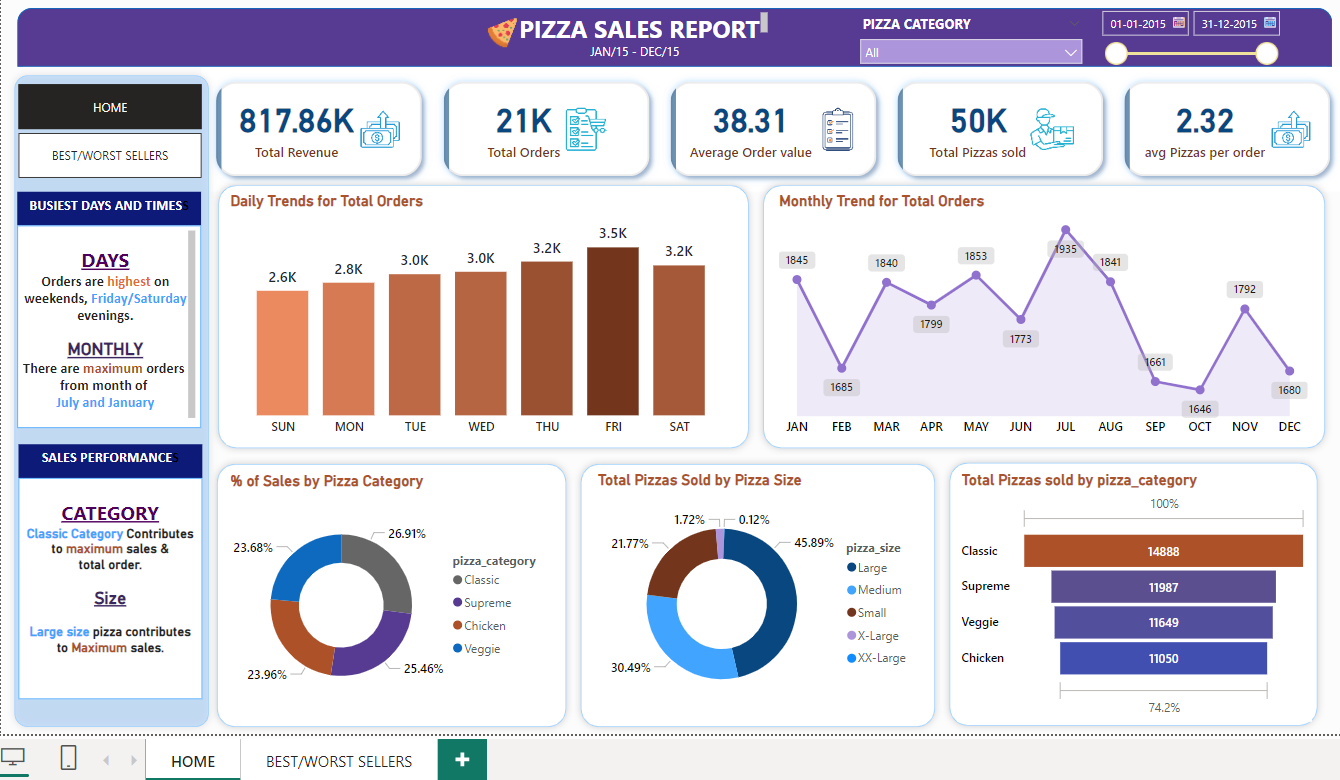

This screenshot's page, from the dashboard's own definition file:
{"tool":"powerbi","page":{"name":"HOME","canvas":[1500,820],"ordinal":0},"visuals":[{"type":"cardVisual","fields":{"Data":["pizza_sales.Total Revenue","pizza_sales.Total Orders","pizza_sales.Average Order value","pizza_sales.Total Pizzas sold","pizza_sales.avg Pizzas per order"]},"box":[222.8,76.6,1277.1,139.3],"z":0},{"type":"shape","box":[18.1,11.1,1465.1,65.5],"z":1000},{"type":"textbox","box":[571,11.1,288.3,44.6],"z":2000},{"type":"textbox","box":[637.8,46,136.5,30.6],"z":3000},{"type":"image","box":[490.2,16.7,136.5,44.6],"z":4000},{"type":"shape","box":[234,200.5,607.2,309.2],"z":5000},{"type":"columnChart","title":"Daily Trends for Total Orders","fields":{"Category":["pizza_sales.Order day"],"Y":["pizza_sales.Total Orders"]},"box":[250.7,215.9,569.6,281.3],"z":6000},{"type":"shape","box":[841.2,200.5,642,309.2],"z":7000},{"type":"areaChart","title":"Monthly Trend for Total Orders","fields":{"Category":["pizza_sales.Order Month"],"Y":["pizza_sales.Total Orders"]},"box":[862.1,215.9,598.8,281.3],"z":8000},{"type":"shape","box":[637.8,511.1,410.8,309.2],"z":9000},{"type":"shape","box":[232.6,511.1,405.3,309.2],"z":10000},{"type":"shape","box":[1048.7,509.7,426.2,309.2],"z":11000},{"type":"donutChart","title":"% of Sales by Pizza Category","fields":{"Category":["pizza_sales.pizza_category"],"Y":["pizza_sales.Total Revenue"]},"box":[250.7,527.8,366.3,278.5],"z":12000},{"type":"donutChart","title":"Total Pizzas Sold by Pizza Size","fields":{"Category":["pizza_sales.pizza_size"],"Y":["pizza_sales.Total Revenue"]},"box":[660.1,526.4,366.3,278.5],"z":13000},{"type":"funnel","fields":{"Category":["pizza_sales.pizza_category"],"Y":["pizza_sales.Total Pizzas sold"]},"box":[1065.4,526.4,395.5,279.9],"z":14000},{"type":"shape","box":[7,78,232.6,742.3],"z":15000},{"type":"textbox","box":[18.1,215.9,204.7,37.6],"z":16000},{"type":"textbox","box":[18.1,253.5,204.7,225.6],"z":17000},{"type":"textbox","box":[19.5,497.2,204.7,37.6],"z":18000},{"type":"textbox","box":[19.5,534.8,204.7,246.5],"z":19000},{"type":"slicer","fields":{"Values":["pizza_sales.pizza_category"]},"box":[947,13.9,267.4,59.9],"z":20000},{"type":"slicer","fields":{"Values":["pizza_sales.order_date"]},"box":[1214.4,4.2,217.3,83.6],"z":21000},{"type":"pageNavigator","box":[19.5,96.1,204.7,50.1],"z":22000},{"type":"pageNavigator","box":[19.5,150.4,204.7,50.1],"z":23000}]}

Visuals, with their boxes on the page's 1500x820 design canvas (x1, y1, x2, y2). These are canvas units, not pixel positions in the 1340x780 screenshot, which may show the page scaled, cropped or inside an application window:
cardVisual - pizza_sales.Total Revenue x pizza_sales.Total Orders: <region>223, 77, 1500, 216</region>
shape: <region>18, 11, 1483, 77</region>
textbox: <region>571, 11, 859, 56</region>
textbox: <region>638, 46, 774, 77</region>
image: <region>490, 17, 627, 61</region>
shape: <region>234, 200, 841, 510</region>
"Daily Trends for Total Orders" columnChart: <region>251, 216, 820, 497</region>
shape: <region>841, 200, 1483, 510</region>
"Monthly Trend for Total Orders" areaChart: <region>862, 216, 1461, 497</region>
shape: <region>638, 511, 1049, 820</region>
shape: <region>233, 511, 638, 820</region>
shape: <region>1049, 510, 1475, 819</region>
"% of Sales by Pizza Category" donutChart: <region>251, 528, 617, 806</region>
"Total Pizzas Sold by Pizza Size" donutChart: <region>660, 526, 1026, 805</region>
funnel - pizza_sales.pizza_category x pizza_sales.Total Pizzas sold: <region>1065, 526, 1461, 806</region>
shape: <region>7, 78, 240, 820</region>
textbox: <region>18, 216, 223, 254</region>
textbox: <region>18, 254, 223, 479</region>
textbox: <region>20, 497, 224, 535</region>
textbox: <region>20, 535, 224, 781</region>
slicer - pizza_sales.pizza_category: <region>947, 14, 1214, 74</region>
slicer - pizza_sales.order_date: <region>1214, 4, 1432, 88</region>
pageNavigator: <region>20, 96, 224, 146</region>
pageNavigator: <region>20, 150, 224, 200</region>
